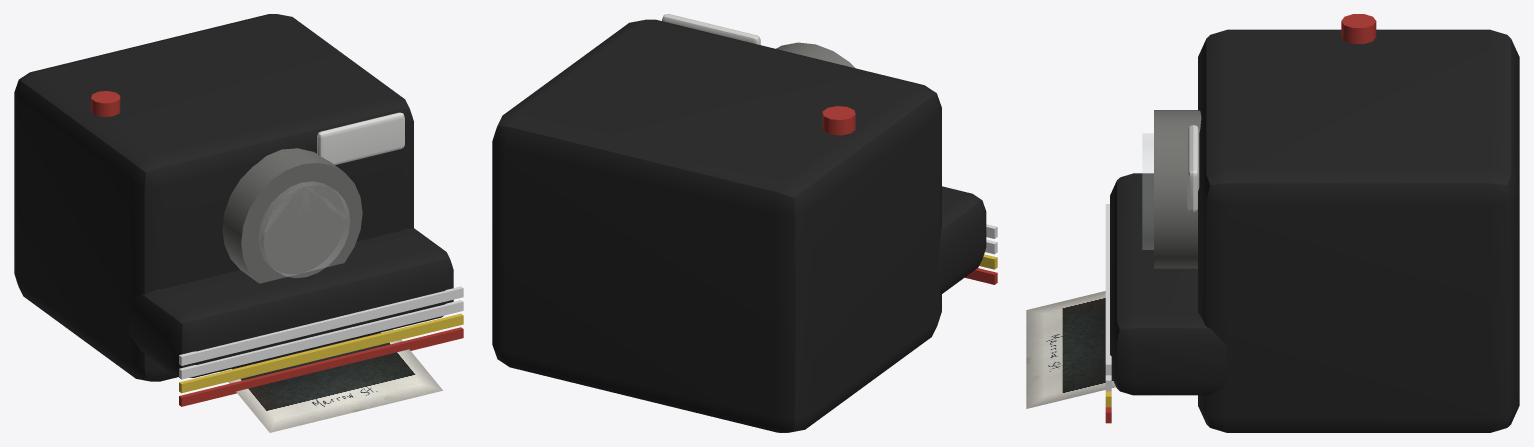
Rendered from SM_EQ_Camera.fbx.
3 views of the same model, side by side, from view 1: azimuth 30°, elevation 25°; view 2: azimuth 150°, elevation 25°; view 3: azimuth 270°, elevation 25° (orthographic). The views are drawn at different scales.
Visible parts, largest first — view 1: SM_EQ_Camera_1; view 2: SM_EQ_Camera_1; view 3: SM_EQ_Camera_1.
Part boxes in pixels (x1=…): SM_EQ_Camera_1: x1=14, y1=14, x2=463, y2=432; SM_EQ_Camera_1: x1=492, y1=14, x2=997, y2=432; SM_EQ_Camera_1: x1=1026, y1=14, x2=1519, y2=432.
Size of the model in its own units: 13 by 10.6 by 16.86.
